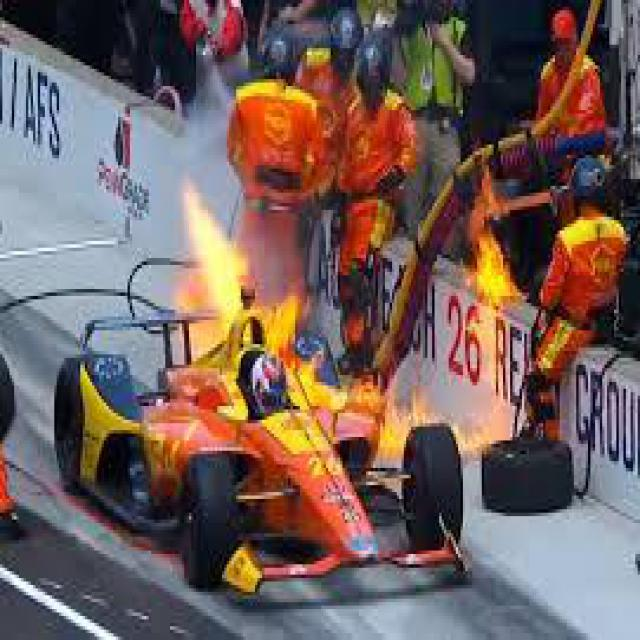fire: (169, 207, 327, 383)
